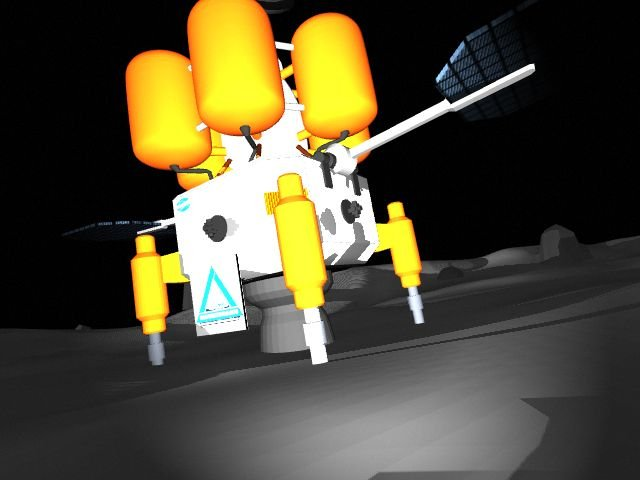basemarker: (197, 265, 244, 327)
